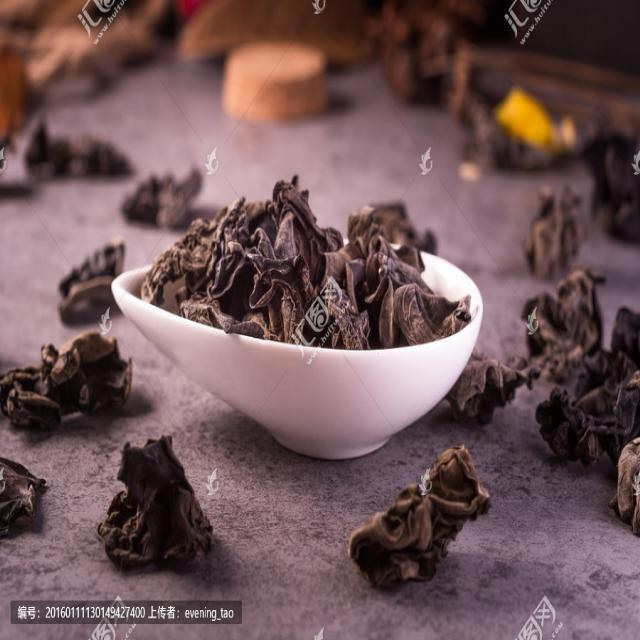Auricularia auricula: (136, 181, 474, 355), (519, 187, 640, 534), (346, 443, 491, 585), (97, 432, 215, 570), (0, 329, 134, 436)
